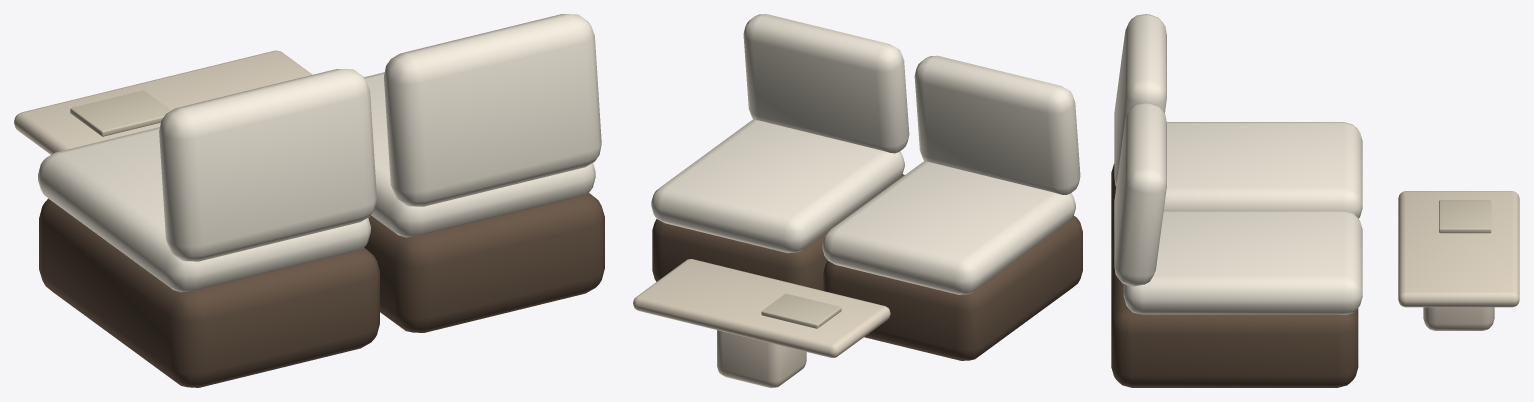
The model's file is room-library-upper.glb.
The picture shows the model from 3 angles, left to right: view 1: azimuth 30°, elevation 25°; view 2: azimuth 150°, elevation 25°; view 3: azimuth 270°, elevation 25°; orthographic projection. The views are drawn at different scales.
Parts seen in each view (by area): view 1: library-upper__linen, library-upper__honey ash, library-upper__honed travertine, library-upper__library warm paper edges; view 2: library-upper__linen, library-upper__honey ash, library-upper__honed travertine, library-upper__library warm paper edges; view 3: library-upper__linen, library-upper__honey ash, library-upper__honed travertine, library-upper__library warm paper edges.
Boxes of the visible parts, bbox=[...] form: library-upper__linen: bbox=[38, 14, 601, 292]; library-upper__honey ash: bbox=[39, 193, 604, 387]; library-upper__honed travertine: bbox=[14, 50, 312, 154]; library-upper__library warm paper edges: bbox=[70, 90, 170, 136]; library-upper__linen: bbox=[651, 14, 1080, 294]; library-upper__honey ash: bbox=[652, 174, 1082, 360]; library-upper__honed travertine: bbox=[633, 259, 890, 387]; library-upper__library warm paper edges: bbox=[761, 293, 841, 328]; library-upper__linen: bbox=[1114, 14, 1362, 314]; library-upper__honey ash: bbox=[1111, 163, 1358, 387]; library-upper__honed travertine: bbox=[1398, 191, 1519, 330]; library-upper__library warm paper edges: bbox=[1439, 200, 1491, 233].
Bounding box in the file's own units: 1.92 × 1.19 × 1.95.
